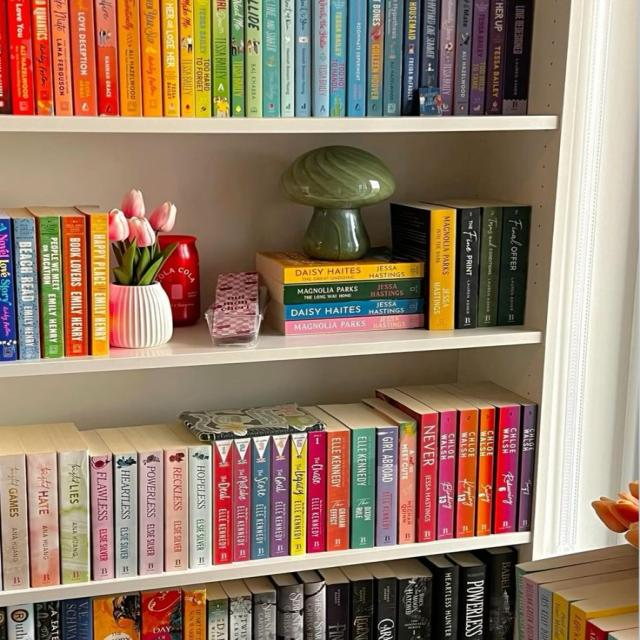book: (58, 451, 90, 583), (28, 452, 59, 587), (0, 454, 29, 590), (61, 211, 88, 357), (13, 216, 40, 359), (497, 206, 529, 325), (501, 0, 532, 115), (38, 216, 63, 358), (85, 210, 109, 356), (283, 280, 423, 304), (493, 405, 519, 533), (70, 0, 97, 116), (7, 0, 34, 115), (138, 451, 163, 575), (285, 299, 423, 321), (90, 454, 114, 580), (430, 210, 455, 330), (113, 452, 137, 577), (164, 447, 188, 571), (455, 403, 477, 537), (285, 264, 425, 285), (477, 206, 501, 327), (285, 313, 423, 334), (188, 445, 211, 568), (138, 0, 162, 117), (94, 0, 118, 116), (117, 0, 141, 116), (416, 414, 437, 541), (516, 404, 537, 531), (30, 0, 53, 115), (485, 0, 508, 115), (352, 428, 374, 548), (475, 408, 495, 535), (50, 0, 72, 115), (213, 440, 233, 564), (250, 436, 270, 559), (0, 218, 17, 361), (328, 432, 348, 550), (376, 428, 396, 546), (347, 0, 367, 117), (383, 0, 403, 116), (232, 439, 251, 561), (306, 430, 325, 552), (470, 0, 490, 115), (270, 435, 289, 556), (160, 0, 179, 117), (211, 0, 230, 117), (402, 0, 421, 115), (437, 0, 456, 115), (453, 0, 472, 115), (438, 411, 455, 539), (312, 0, 330, 117), (193, 0, 210, 117), (245, 0, 262, 117), (330, 0, 347, 117), (290, 433, 306, 556), (461, 208, 477, 328), (399, 424, 415, 543), (178, 0, 194, 117), (263, 0, 279, 117), (294, 0, 310, 117), (367, 0, 383, 116), (419, 0, 439, 87), (229, 0, 243, 117), (280, 0, 294, 117), (0, 0, 10, 113), (420, 100, 437, 114)
flowers: (109, 190, 178, 348)
